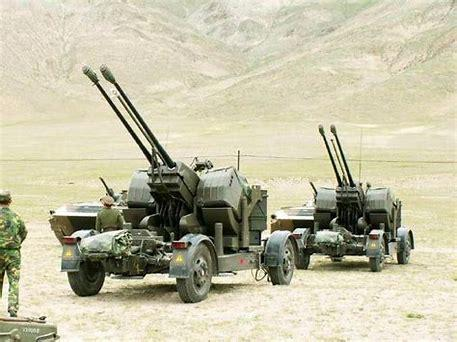MIL_SPG: (50, 65, 296, 302), (295, 125, 414, 271)
